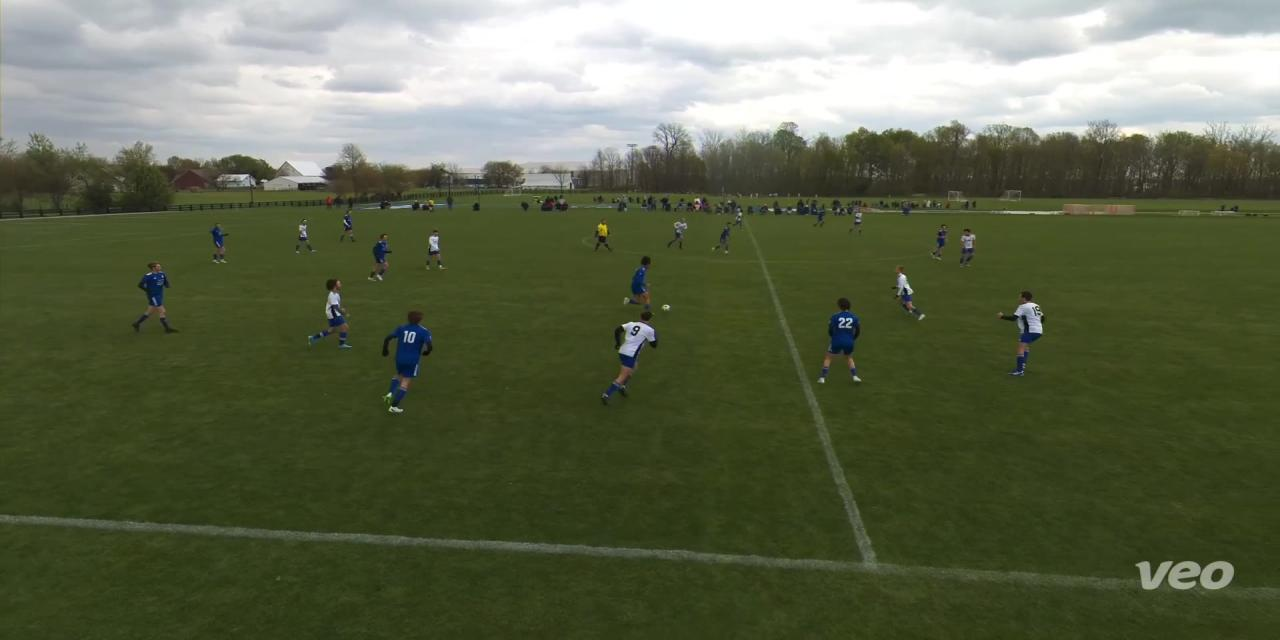sports ball: (656, 299, 677, 317)
